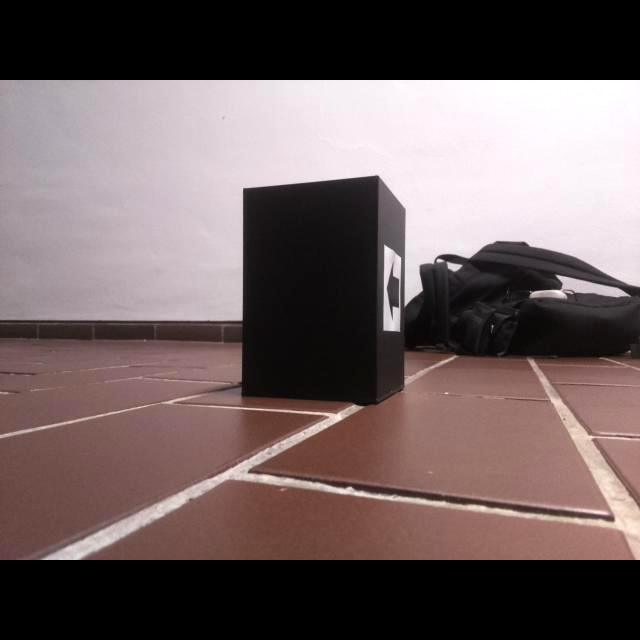LEFT: (386, 258, 399, 322)
